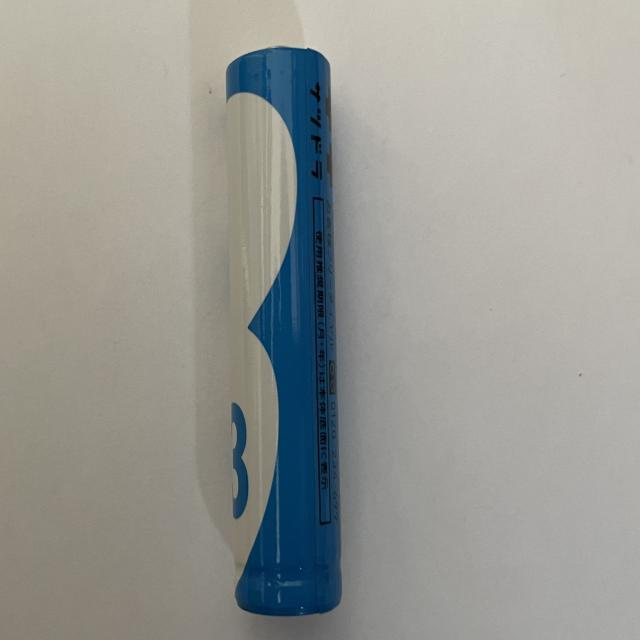AA: (224, 39, 358, 626)
